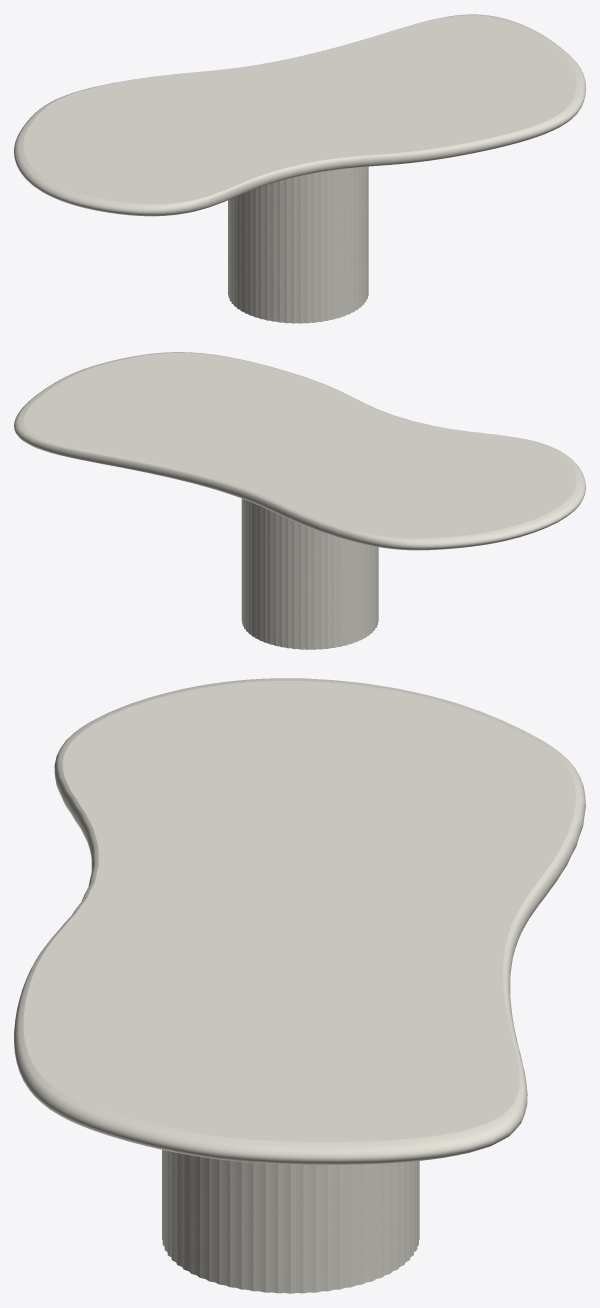
File: pale_wave_round_ripple.glb
The picture shows the model from 3 angles, top to bottom: view 1: azimuth 30°, elevation 25°; view 2: azimuth 150°, elevation 25°; view 3: azimuth 270°, elevation 25°; orthographic projection. The views are drawn at different scales.
Parts seen in each view (by area): view 1: round_wave, ripple; view 2: round_wave, ripple; view 3: round_wave, ripple.
Part boxes in pixels (<box>): round_wave: <box>14,14,585,216</box>; ripple: <box>228,166,368,323</box>; round_wave: <box>14,352,585,550</box>; ripple: <box>241,498,378,649</box>; round_wave: <box>14,678,585,1164</box>; ripple: <box>162,1150,419,1293</box>.
Size of the model in its own units: 7.76 by 2.5 by 3.93.
1 material, 1 textured.
